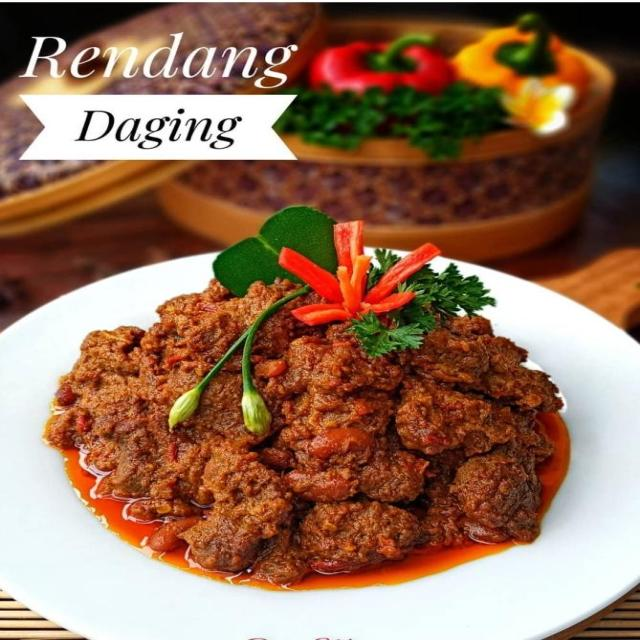Rendang: (48, 274, 577, 588)
